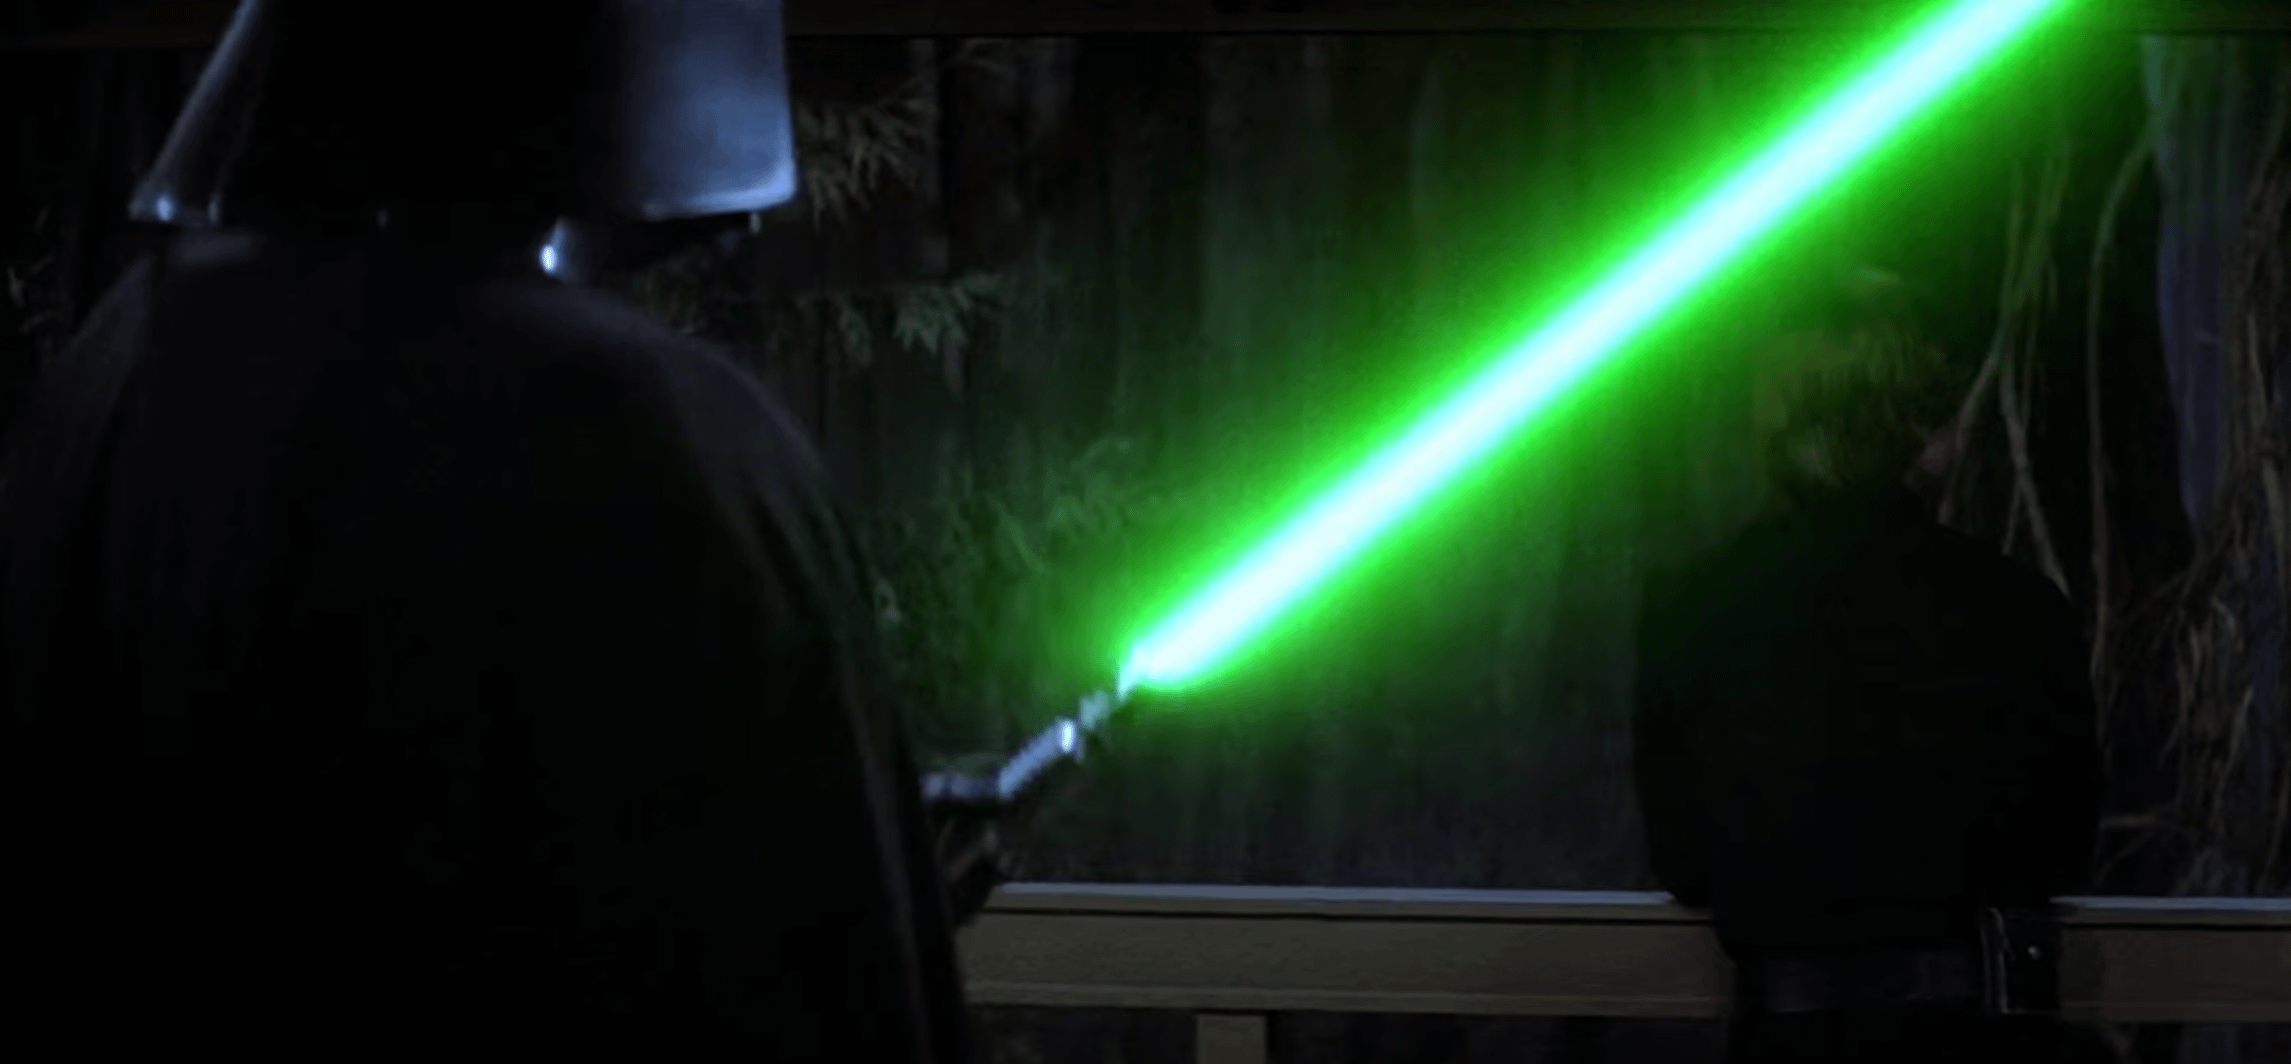lightsaber: (916, 0, 2152, 919)
